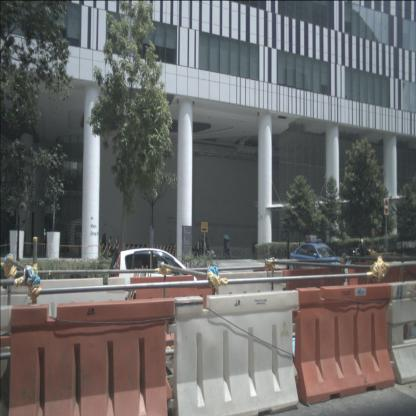barrier: (0, 297, 175, 415), (167, 290, 299, 416), (0, 277, 128, 374), (293, 284, 395, 405), (129, 276, 215, 350), (347, 265, 416, 351), (216, 270, 287, 333), (283, 267, 342, 328), (386, 283, 416, 386)
